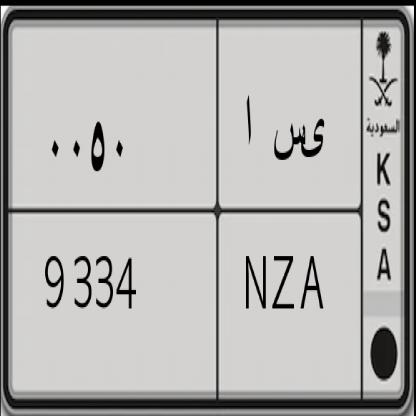english: (0, 200, 370, 410)
